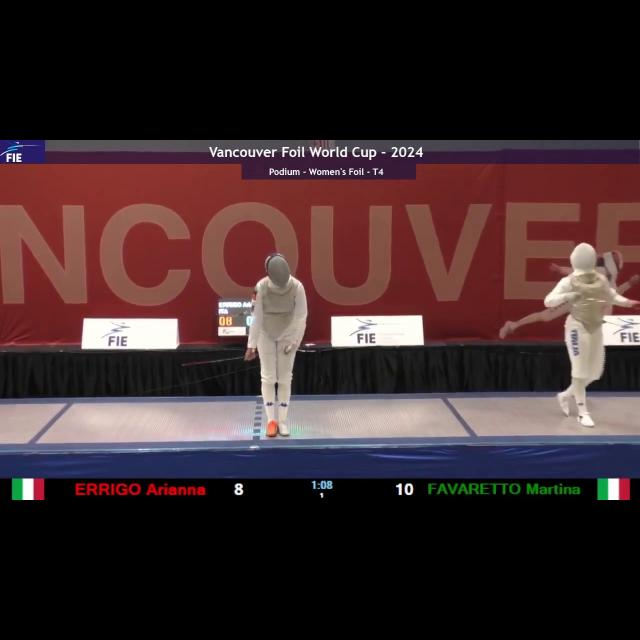blade: (180, 344, 294, 368)
